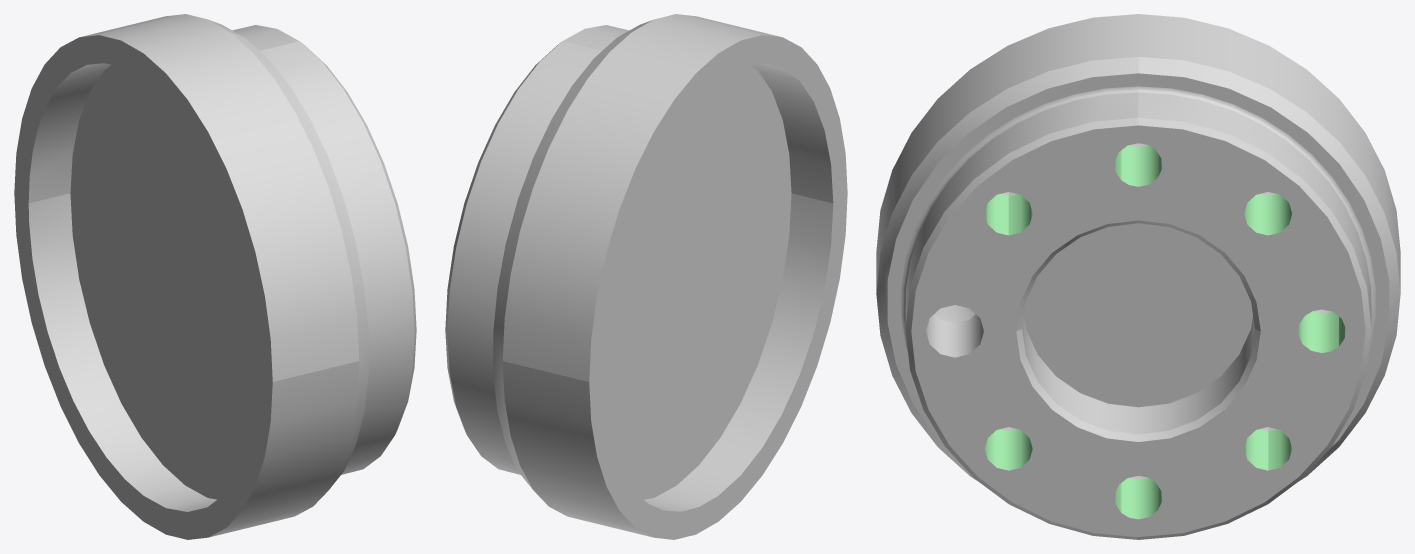
The picture shows the model from 3 angles, left to right: view 1: azimuth 30°, elevation 25°; view 2: azimuth 150°, elevation 25°; view 3: azimuth 270°, elevation 25°; orthographic projection.
Visible parts, largest first — view 1: Mesh_0; view 2: Mesh_0; view 3: Mesh_0.
Boxes of the visible parts, left/top/right/bottom form: Mesh_0: left=14, top=14, right=416, bottom=539; Mesh_0: left=445, top=14, right=847, bottom=539; Mesh_0: left=876, top=14, right=1400, bottom=539.
Bounding box in the file's own units: 0.0162 × 0.045 × 0.045.
